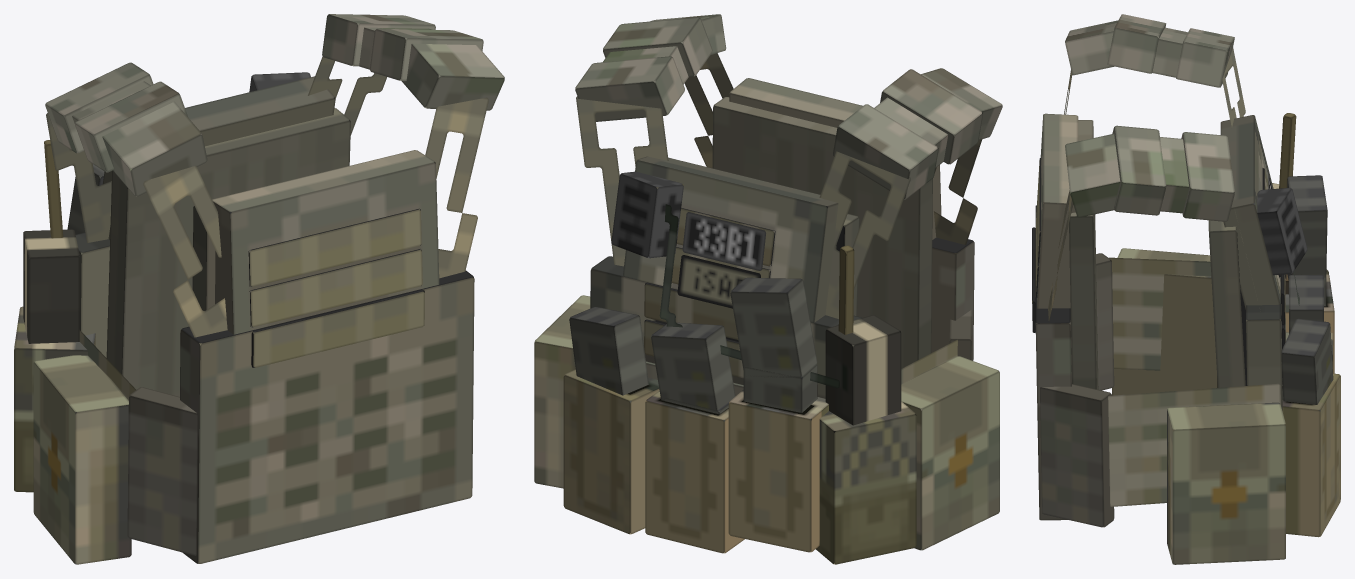
Rendered from infantry.obj.
3 renders of one model, left to right at view 1: azimuth 30°, elevation 25°; view 2: azimuth 150°, elevation 25°; view 3: azimuth 270°, elevation 25°, orthographic. The views are drawn at different scales.
Parts seen in each view (by area): view 1: plane; view 2: plane; view 3: plane.
Part boxes in pixels (box(x1,y1,x2,y2)): plane: box(14, 14, 504, 564); plane: box(534, 14, 1002, 564); plane: box(1032, 14, 1340, 564).
Bounding box in the file's own units: 0.7673 × 0.7843 × 0.5505.
